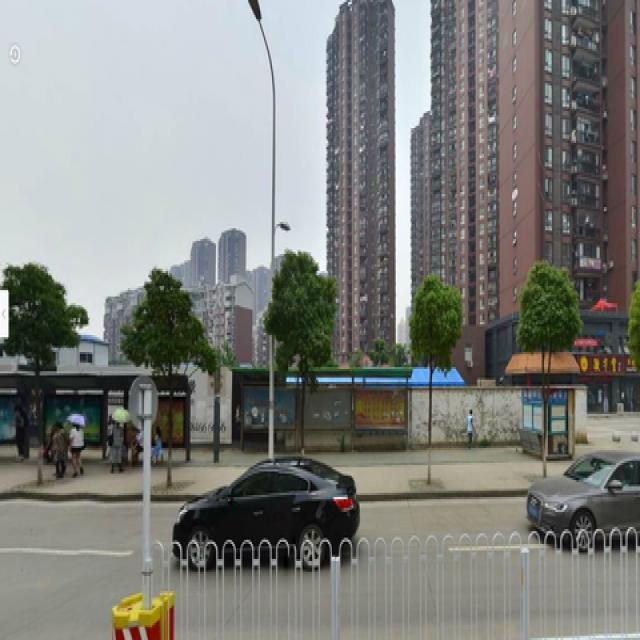cinn: (140, 275, 203, 495), (277, 246, 335, 457), (11, 260, 69, 463), (516, 262, 563, 476), (417, 269, 456, 476)
